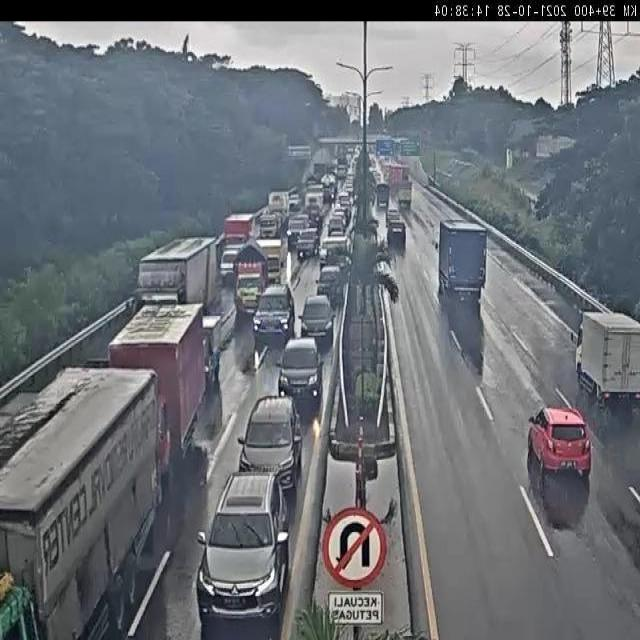Car: (195, 471, 294, 635), (237, 394, 306, 494), (524, 396, 598, 485), (276, 337, 324, 416), (247, 283, 294, 346), (298, 294, 336, 350), (316, 264, 345, 307), (386, 206, 406, 251), (295, 226, 320, 260), (258, 212, 280, 240), (397, 181, 412, 210), (321, 173, 337, 200), (375, 182, 390, 210), (327, 215, 346, 237), (306, 194, 322, 220), (337, 191, 351, 212), (288, 195, 302, 212), (337, 164, 347, 180)
Truck: (0, 363, 165, 640), (110, 299, 199, 436), (130, 236, 218, 330), (576, 312, 640, 434), (435, 212, 490, 308), (234, 240, 268, 319), (219, 211, 253, 283)
